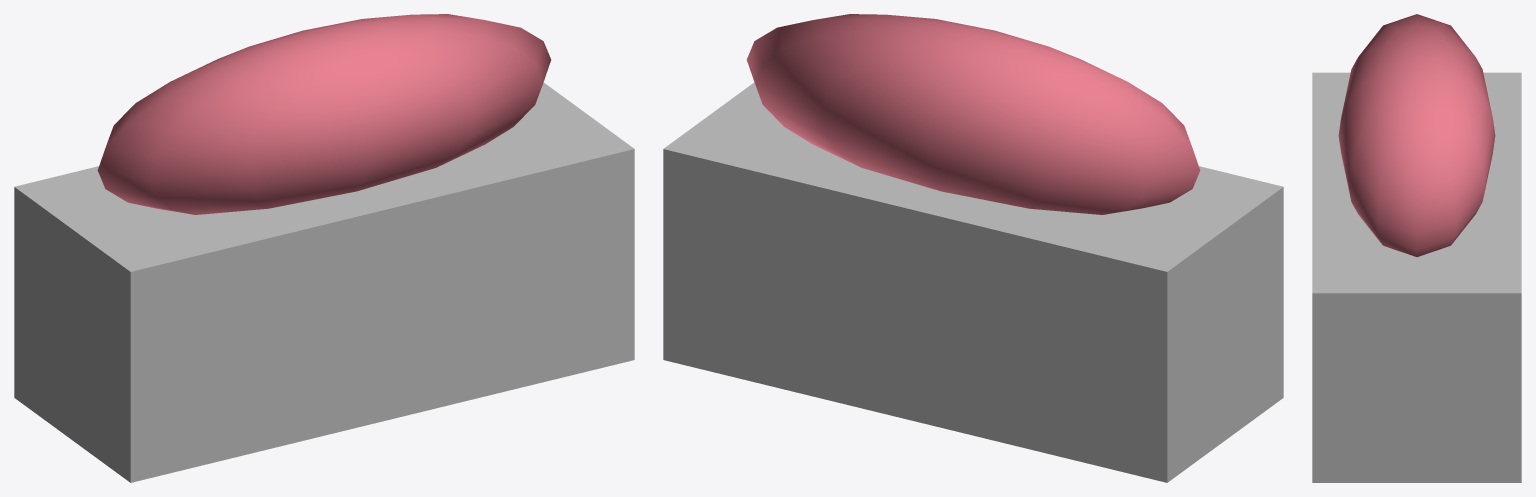
The model's file is env-mod-planter.glb.
3 views of the same model, side by side, from view 1: azimuth 30°, elevation 25°; view 2: azimuth 150°, elevation 25°; view 3: azimuth 270°, elevation 25° (orthographic). The views are drawn at different scales.
Size of the model in its own units: 1 by 0.65 by 0.4.
